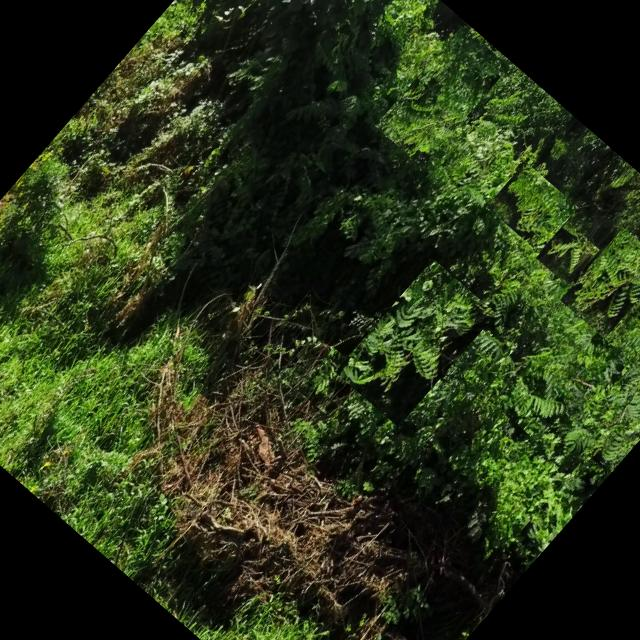Mysore-Thorn-Weed: (334, 259, 496, 427), (374, 26, 510, 168), (260, 36, 391, 168), (320, 206, 426, 316), (547, 367, 640, 475), (514, 455, 610, 558), (559, 227, 640, 339), (486, 162, 578, 253), (542, 333, 632, 426), (243, 148, 331, 240), (493, 359, 576, 442), (515, 310, 595, 394), (587, 352, 640, 473), (463, 80, 537, 156), (457, 319, 531, 392), (297, 348, 367, 419), (536, 222, 600, 286), (608, 299, 640, 387)
